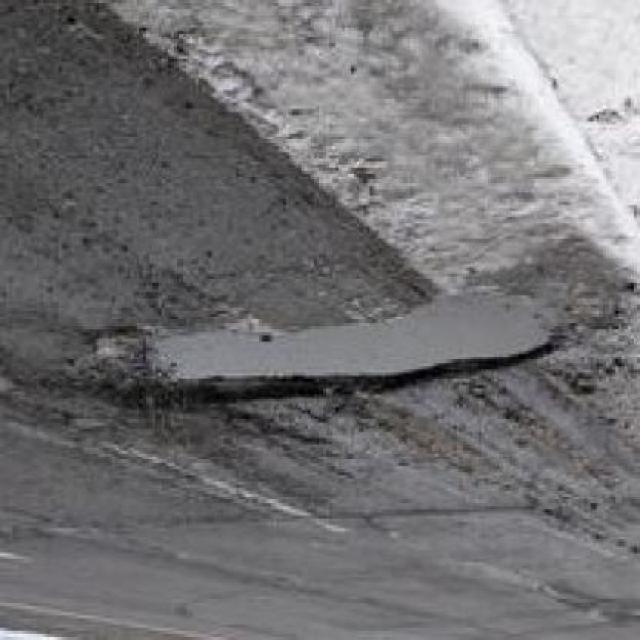pothole: (80, 270, 574, 425)
